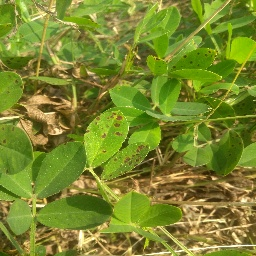GroundNut_Leaf: (36, 194, 112, 232), (33, 140, 84, 193), (86, 109, 131, 168), (214, 129, 248, 177), (1, 122, 31, 175), (171, 46, 223, 74), (113, 190, 152, 226), (1, 69, 25, 114), (158, 77, 181, 118), (226, 33, 256, 64), (184, 140, 212, 173)
